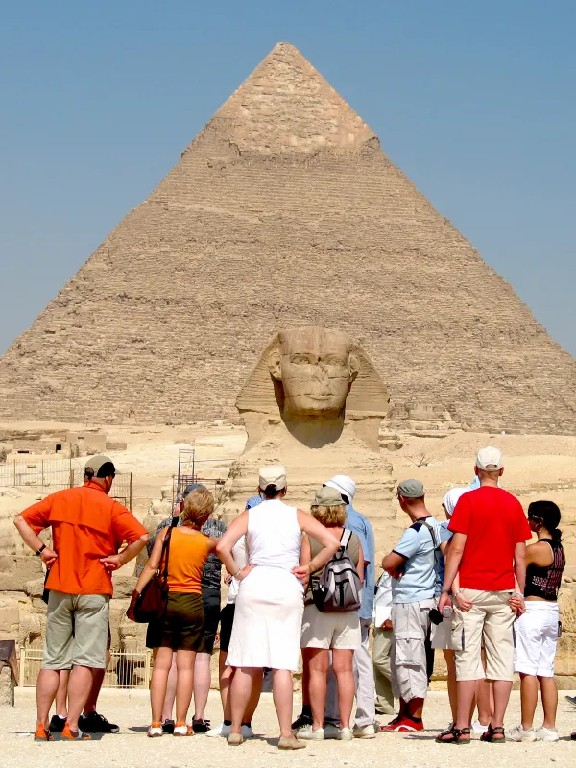Pyramid: (1, 41, 576, 437)
